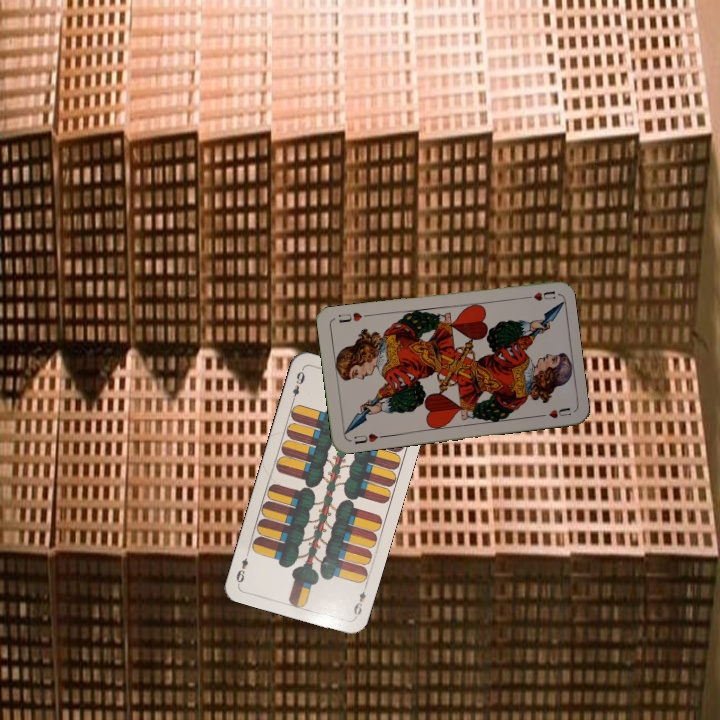E9: (288, 365, 307, 405), (350, 581, 369, 621)
HU: (350, 429, 386, 447), (518, 287, 558, 303)
